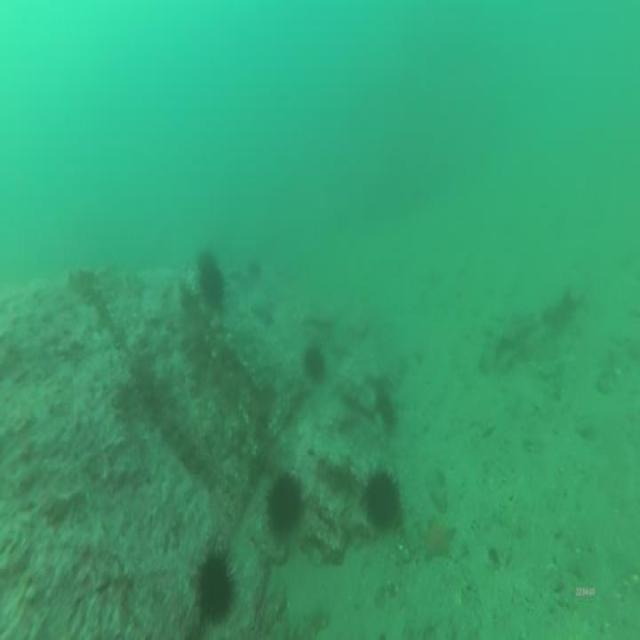echinus: (198, 553, 233, 623), (269, 476, 303, 534), (364, 474, 398, 528), (201, 258, 224, 305), (305, 340, 326, 382)
holothurian: (428, 466, 450, 511)
starfish: (425, 517, 452, 561)
